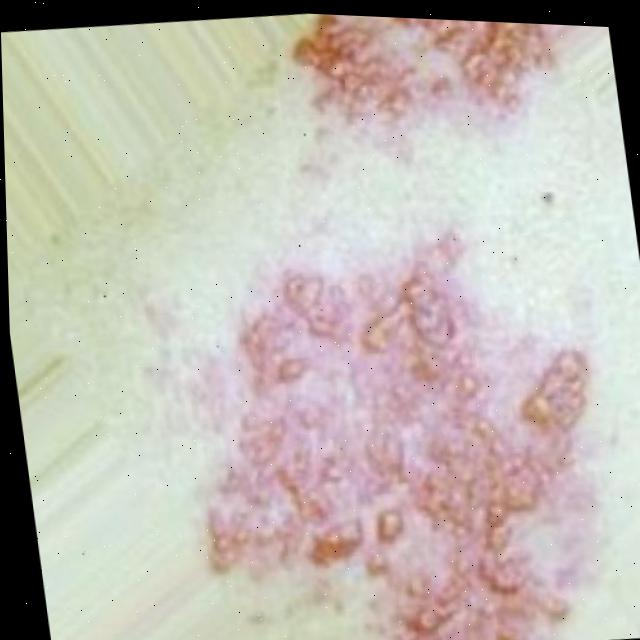Shingles: (166, 228, 640, 640), (295, 13, 558, 138)
